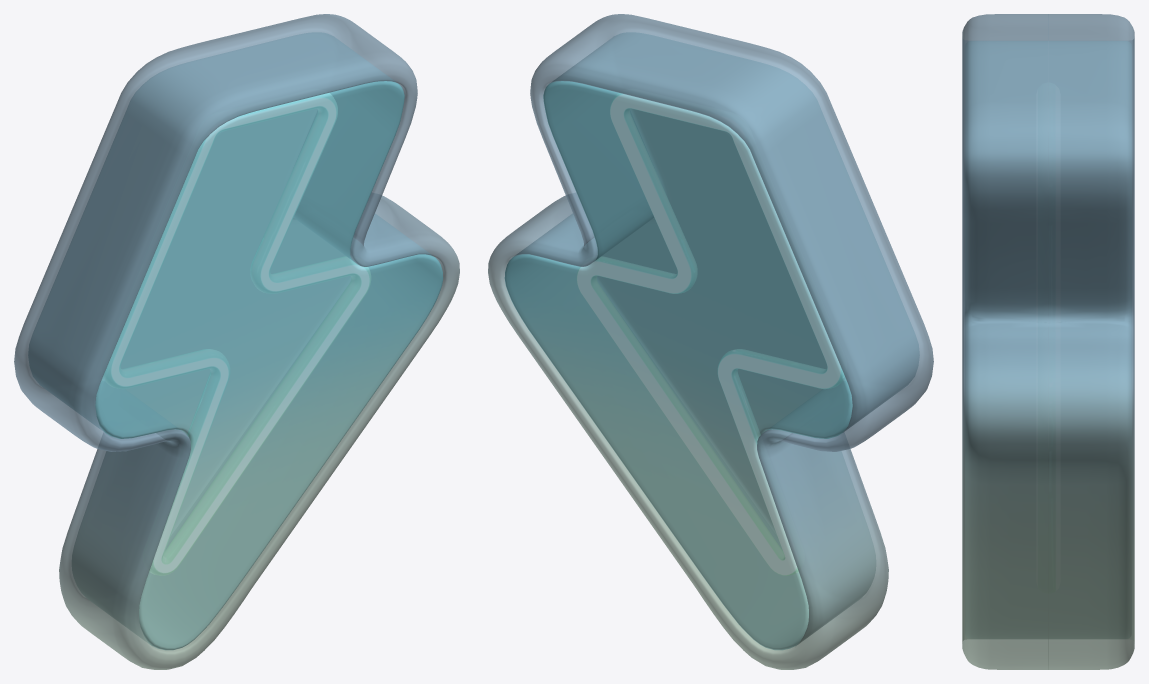
Rendered from XP_Blue_V2.glb.
3 views of the same model, side by side, from view 1: azimuth 30°, elevation 25°; view 2: azimuth 150°, elevation 25°; view 3: azimuth 270°, elevation 25° (orthographic). The views are drawn at different scales.
Parts seen in each view (by area): view 1: мат с г.003, мат с г.001, мат с г.002; view 2: мат с г.003, мат с г.001, мат с г.002; view 3: мат с г.001, мат с г.003.
Part boxes in pixels (<box>): мат с г.003: <box>29,33,443,650</box>; мат с г.001: <box>14,14,459,669</box>; мат с г.002: <box>103,93,370,575</box>; мат с г.003: <box>504,33,918,650</box>; мат с г.001: <box>488,14,933,669</box>; мат с г.002: <box>577,93,844,575</box>; мат с г.001: <box>962,14,1134,669</box>; мат с г.003: <box>965,41,1131,638</box>.
Size of the model in its own units: 0.0767 by 0.1069 by 0.0246.
3 materials, 3 textured.
